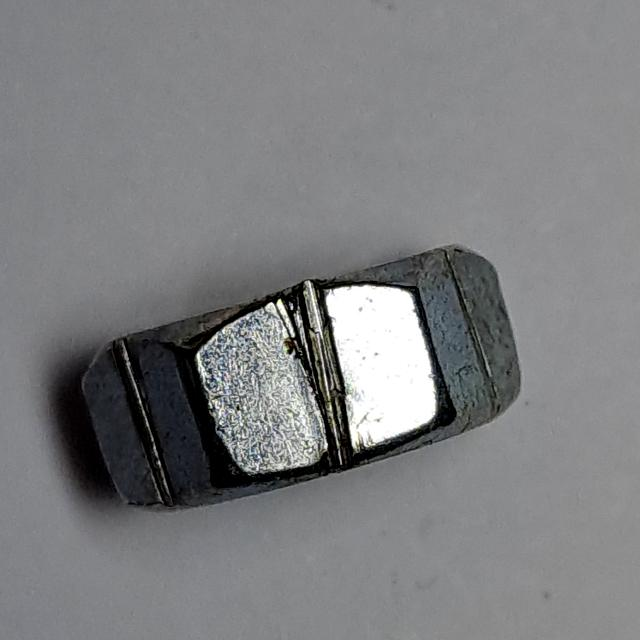Side_Scratches: (74, 237, 533, 523)
